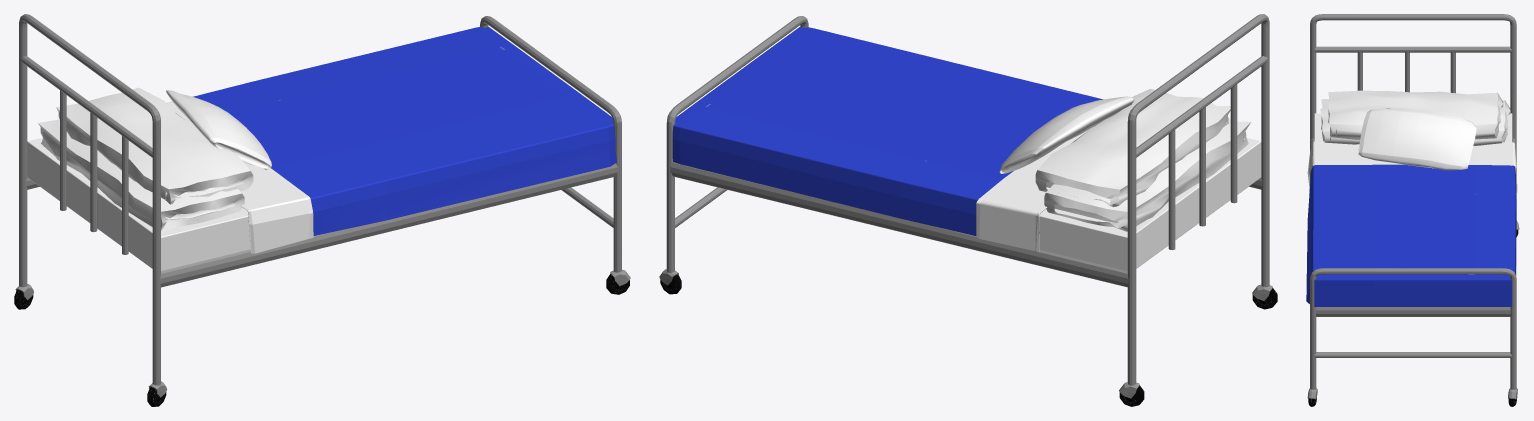
Rendered from bed.fbx.
The picture shows the model from 3 angles, left to right: view 1: azimuth 30°, elevation 25°; view 2: azimuth 150°, elevation 25°; view 3: azimuth 270°, elevation 25°; orthographic projection. The views are drawn at different scales.
Parts seen in each view (by area): view 1: blanket, Bedframe, pillow.001, matress, wheels; view 2: blanket, Bedframe, pillow.001, matress, wheels; view 3: blanket, pillow.001, Bedframe, matress.
Part boxes in pixels (left/top/right/bottom): blanket: left=166, top=26, right=617, bottom=253; Bedframe: left=15, top=14, right=630, bottom=397; pillow.001: left=38, top=87, right=271, bottom=231; matress: left=27, top=138, right=250, bottom=270; wheels: left=14, top=274, right=629, bottom=406; blanket: left=672, top=26, right=1102, bottom=252; Bedframe: left=659, top=14, right=1272, bottom=398; pillow.001: left=999, top=88, right=1250, bottom=231; matress: left=1039, top=138, right=1261, bottom=270; wheels: left=660, top=274, right=1277, bottom=406; blanket: left=1306, top=141, right=1517, bottom=306; pillow.001: left=1320, top=90, right=1510, bottom=170; Bedframe: left=1307, top=14, right=1519, bottom=399; matress: left=1314, top=113, right=1512, bottom=142.
Size of the model in its own units: 2098 by 1239 by 1072.
5 materials, 5 textured.
